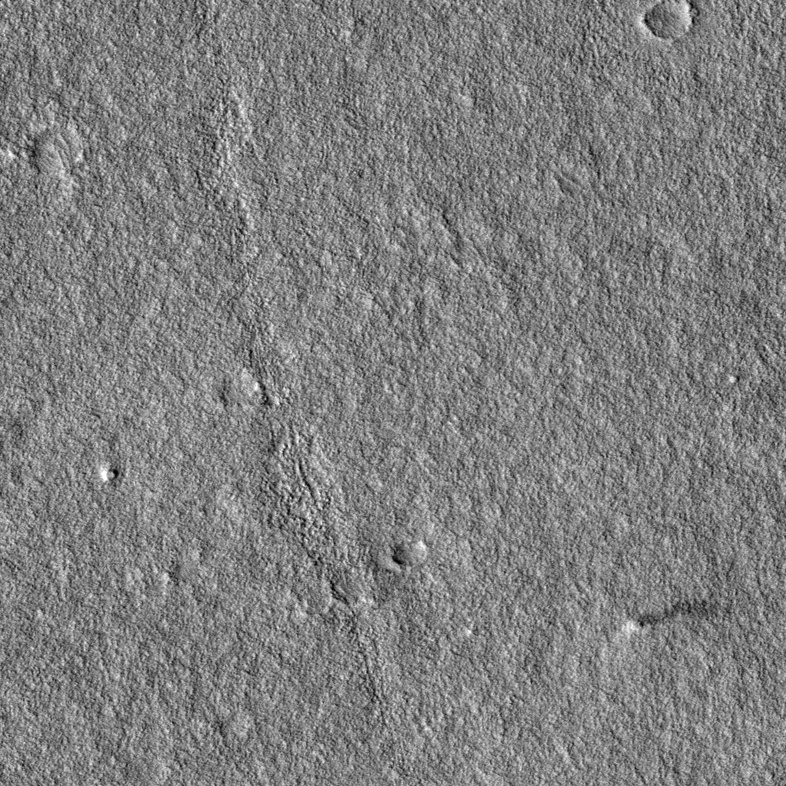dust_devil: (619, 598, 732, 641)
